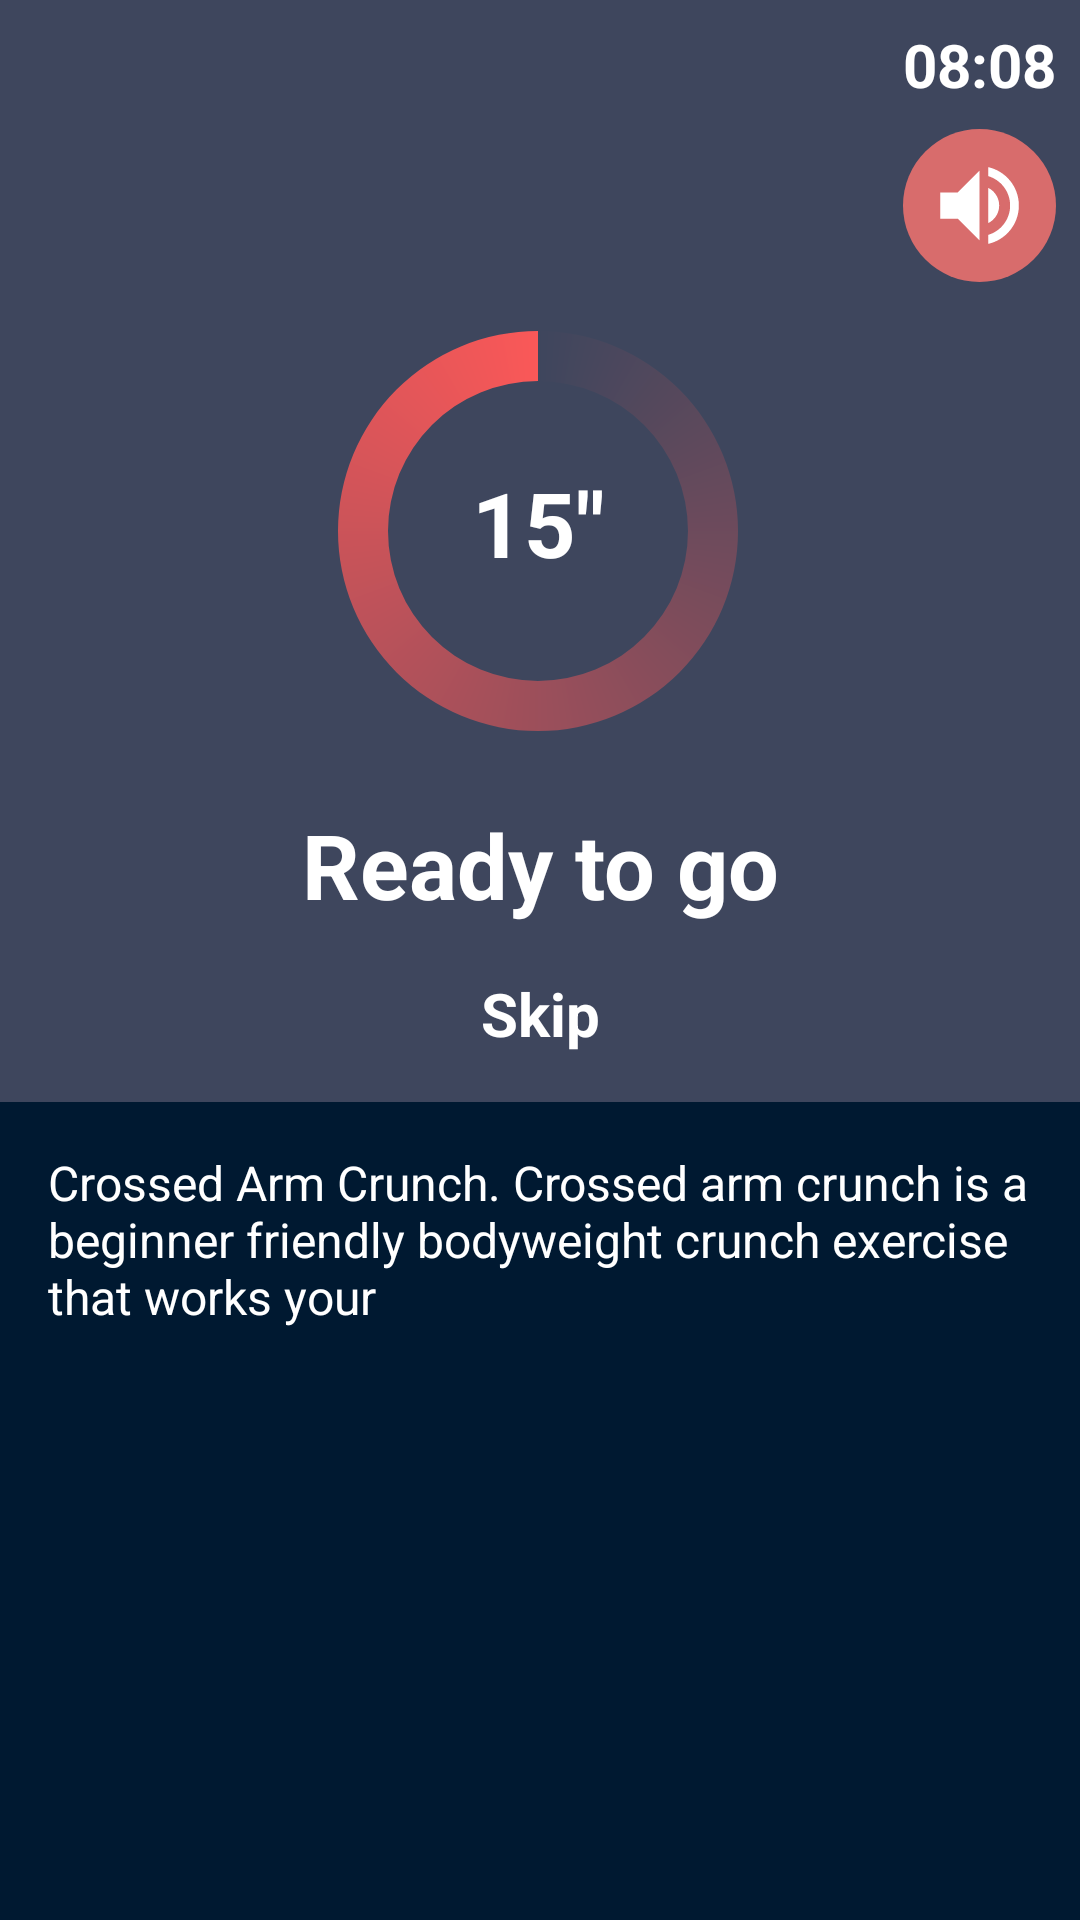

Where to tap for icons on this 1080 × 1920 app screen, as [x,y]:
volume up: [979,205]
